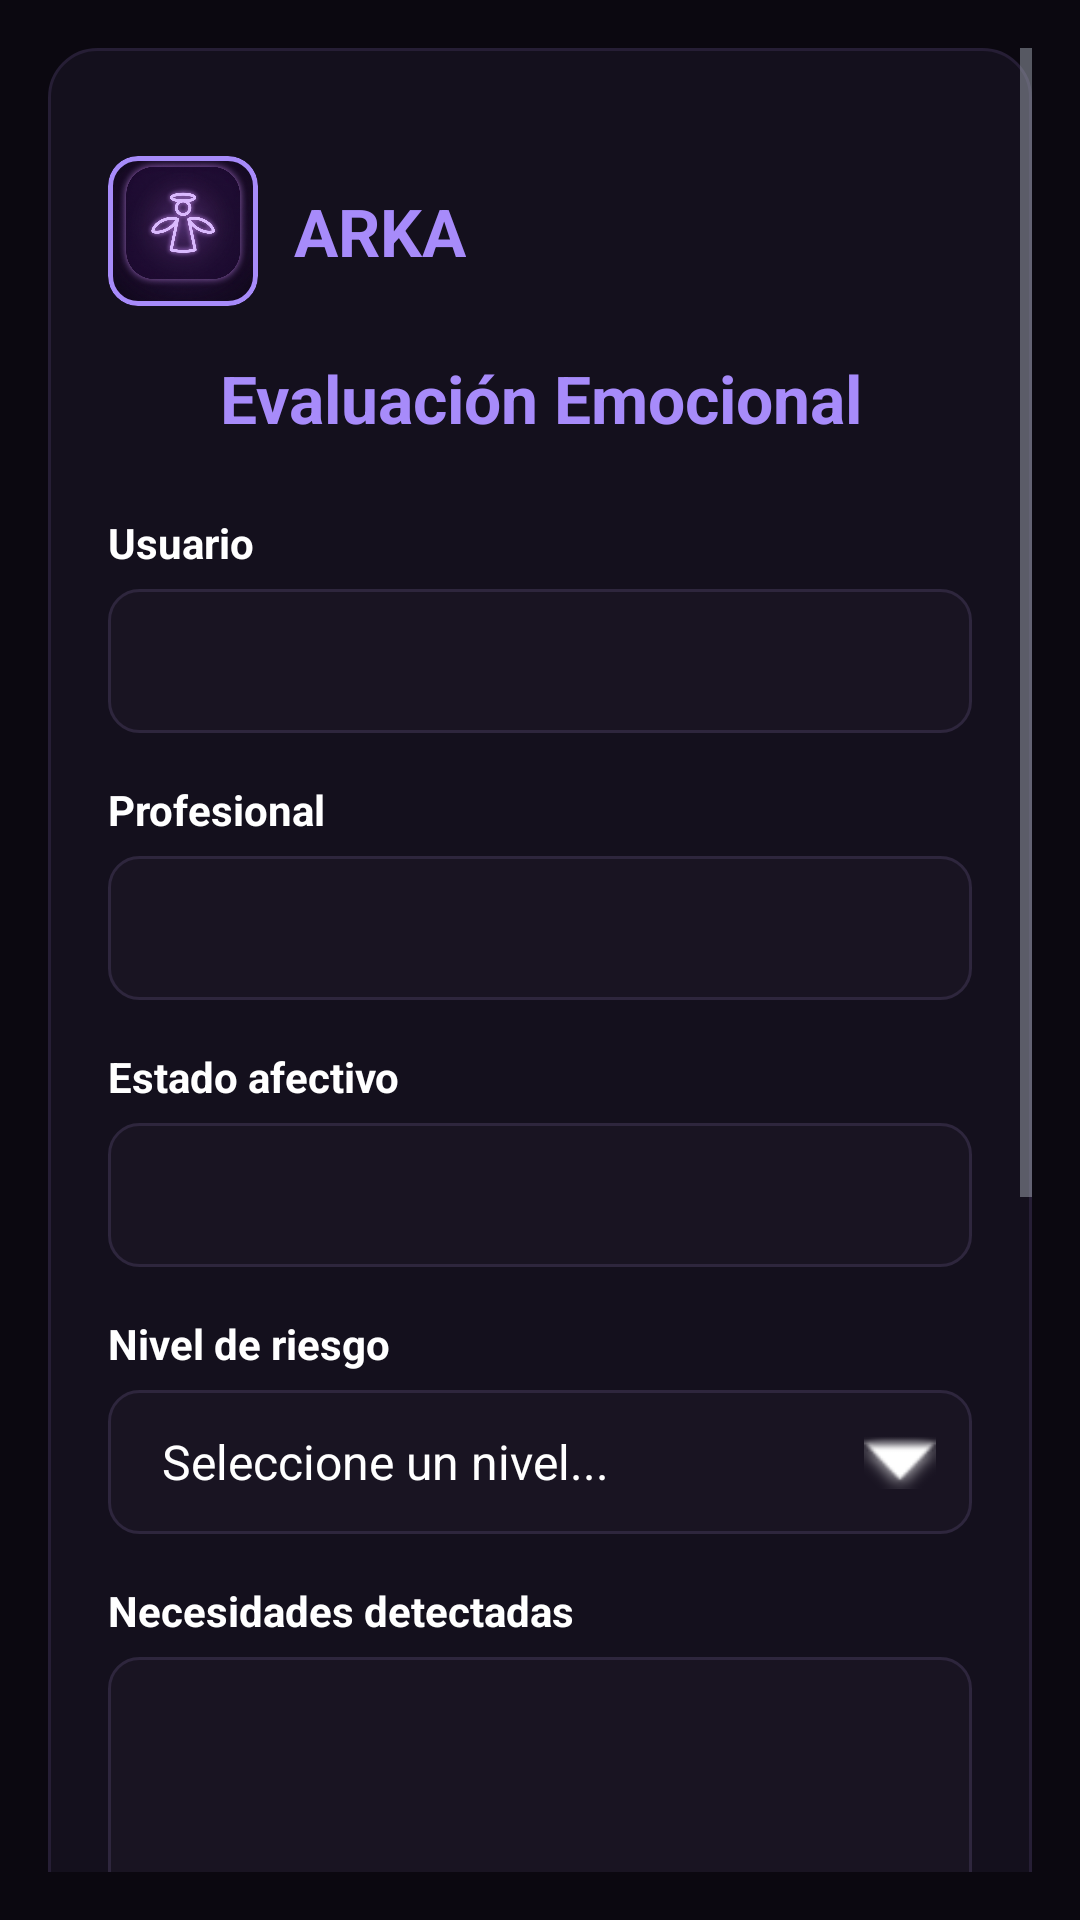

Where icons sit on this 1080*1920 app screen, as (x1, y1, x2, y2):
Desplegar: (864, 1438, 936, 1487)
